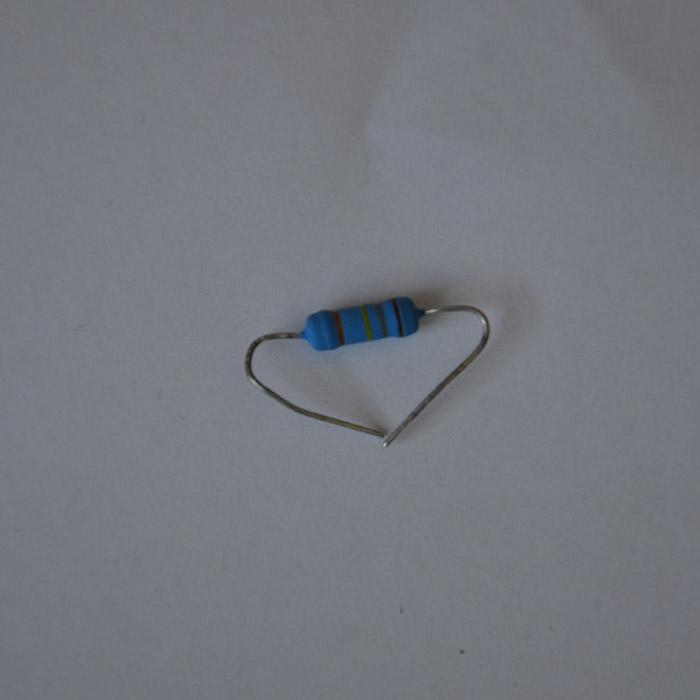resistor: (299, 297, 423, 351)
